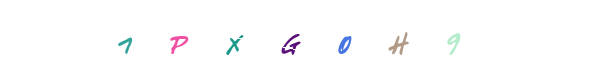7: (138, 0, 218, 80)
9: (340, 0, 420, 80)
G: (267, 0, 347, 80)
H: (322, 0, 402, 80)
O: (304, 0, 384, 80)
P: (145, 0, 225, 80)
X: (251, 0, 331, 80)
